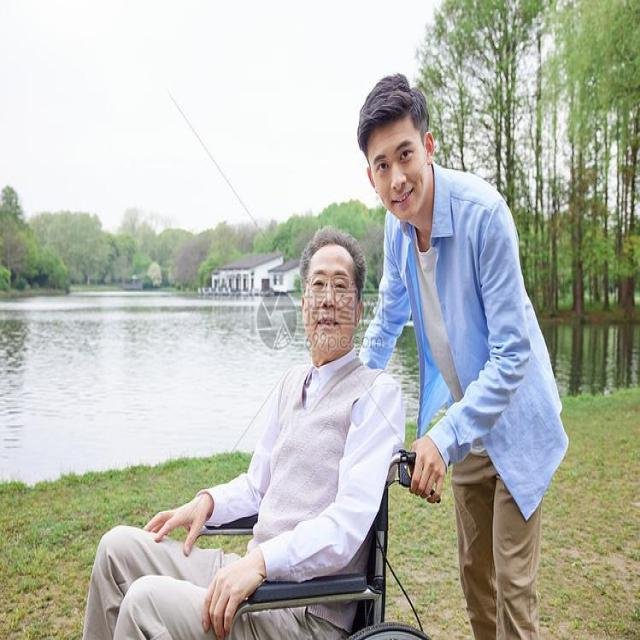wheelchairs: (166, 399, 443, 640)
